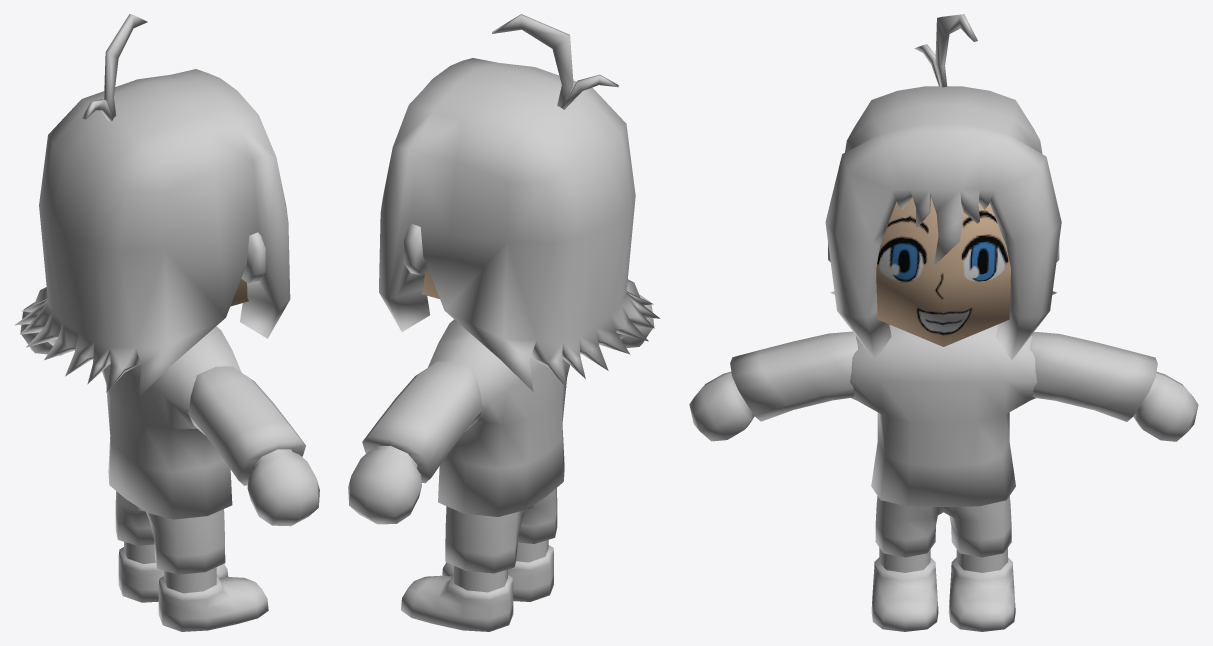
The model's file is apprentice.fbx.
3 views of the same model, side by side, from view 1: azimuth 30°, elevation 25°; view 2: azimuth 150°, elevation 25°; view 3: azimuth 270°, elevation 25° (orthographic). The views are drawn at different scales.
Parts seen in each view (by area): view 1: hair, body, sleevs.001, shoes, pant, hands.001, antenna, legs, ears, hands; view 2: hair, body, sleevs, shoes, pant, hands, antenna, legs, ears; view 3: hair, body, head, shoes, sleevs, sleevs.001, pant, hands, hands.001, legs, antenna.
Part boxes in pixels (x1,y1,x2,y2): hair: (14,69,290,396); body: (102,326,241,519); sleevs.001: (188,366,305,485); shoes: (118,547,268,631); pant: (115,491,225,574); hands.001: (247,449,319,526); antenna: (82,14,147,121); legs: (124,542,216,593); ears: (241,232,265,283); hands: (20,302,63,355); hair: (379,58,660,391); body: (428,319,569,516); sleevs: (362,361,483,483); shoes: (401,545,553,631); pant: (445,488,557,573); hands: (348,445,421,524); antenna: (492,14,618,109); legs: (454,540,548,592); ears: (404,223,428,275); hair: (825,86,1061,360); body: (850,324,1037,507); head: (876,197,1010,346); shoes: (871,557,1015,631); sleevs: (1030,332,1157,421); sleevs.001: (730,331,857,421); pant: (875,496,1011,557); hands: (1133,372,1198,441); hands.001: (689,371,754,441); legs: (879,548,1007,572); antenna: (914,14,977,87).
Size of the model in its own units: 192 by 511 by 414.
